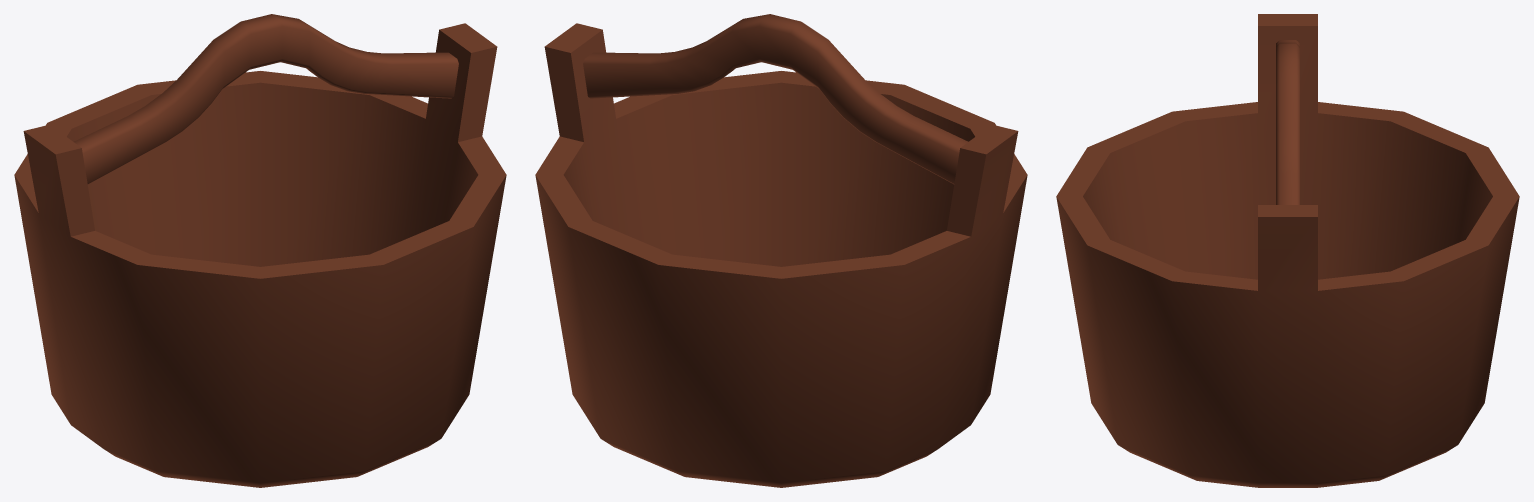
The model's file is Bucket_1.fbx.
3 renders of one model, left to right at view 1: azimuth 30°, elevation 25°; view 2: azimuth 150°, elevation 25°; view 3: azimuth 270°, elevation 25°, orthographic. The views are drawn at different scales.
Visible parts, largest first — view 1: Bucket_1; view 2: Bucket_1; view 3: Bucket_1.
Part boxes in pixels (x1=…): Bucket_1: x1=14, y1=14, x2=506, y2=487; Bucket_1: x1=535, y1=14, x2=1027, y2=487; Bucket_1: x1=1056, y1=14, x2=1519, y2=487.
Bounding box in the file's own units: 54.19 × 45.15 × 52.3.
